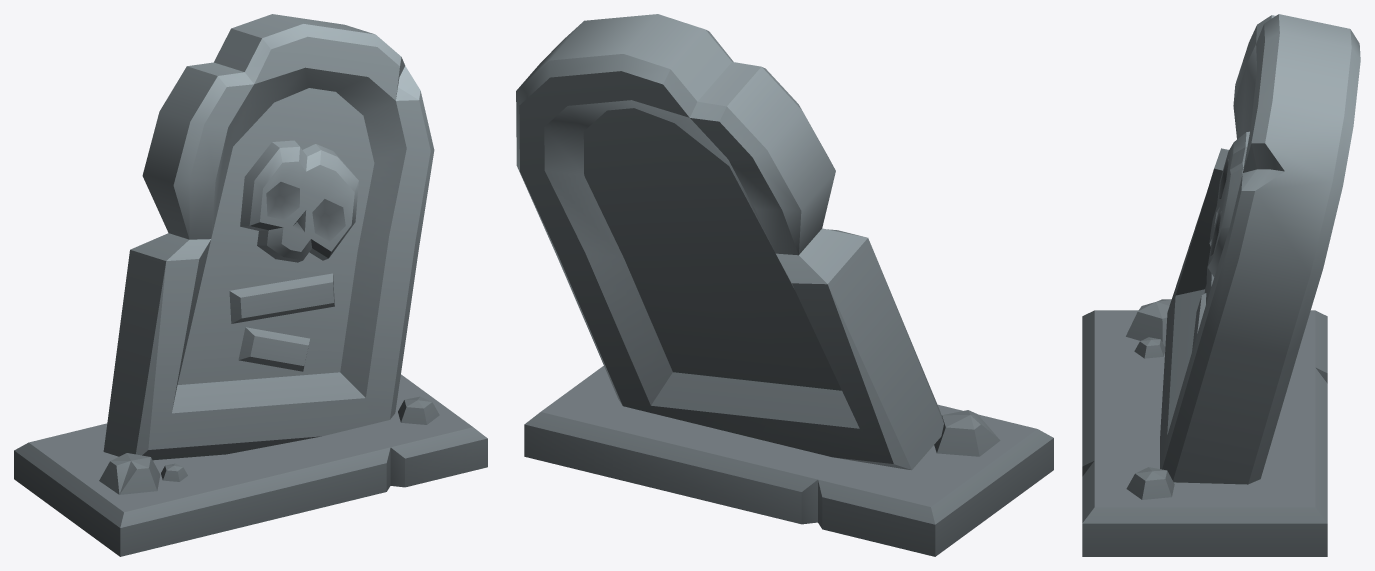
File: grave_A_destroyed.glb
3 views of the same model, side by side, from view 1: azimuth 30°, elevation 25°; view 2: azimuth 150°, elevation 25°; view 3: azimuth 270°, elevation 25° (orthographic). The views are drawn at different scales.
Parts seen in each view (by area): view 1: grave_A_destroyed; view 2: grave_A_destroyed; view 3: grave_A_destroyed.
Part boxes in pixels (x1=…): grave_A_destroyed: x1=14, y1=14, x2=487, y2=556; grave_A_destroyed: x1=516, y1=14, x2=1053, y2=556; grave_A_destroyed: x1=1082, y1=14, x2=1360, y2=556.
Size of the model in its own units: 2.08 by 2.11 by 1.14.
1 material, 1 textured.
